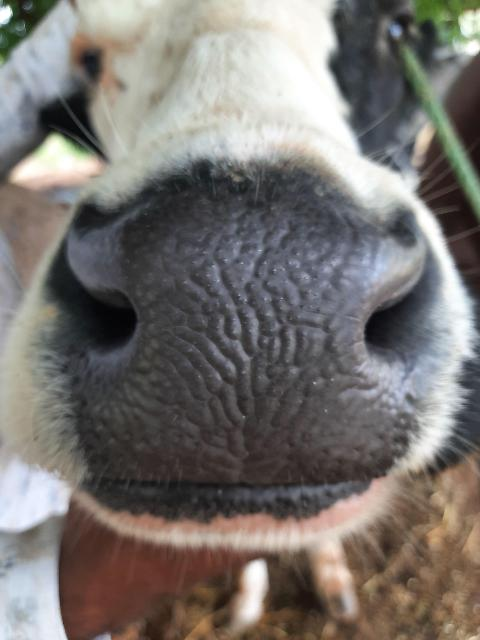Muzzle: (135, 216, 368, 478)
